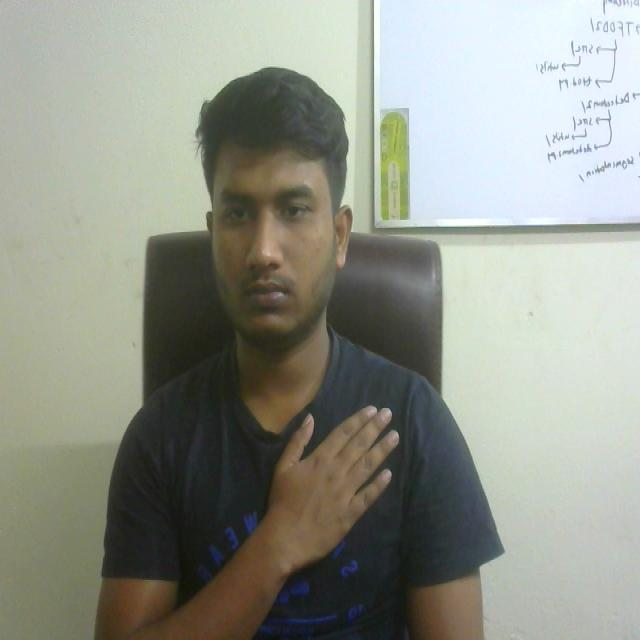E: (243, 379, 404, 580)
